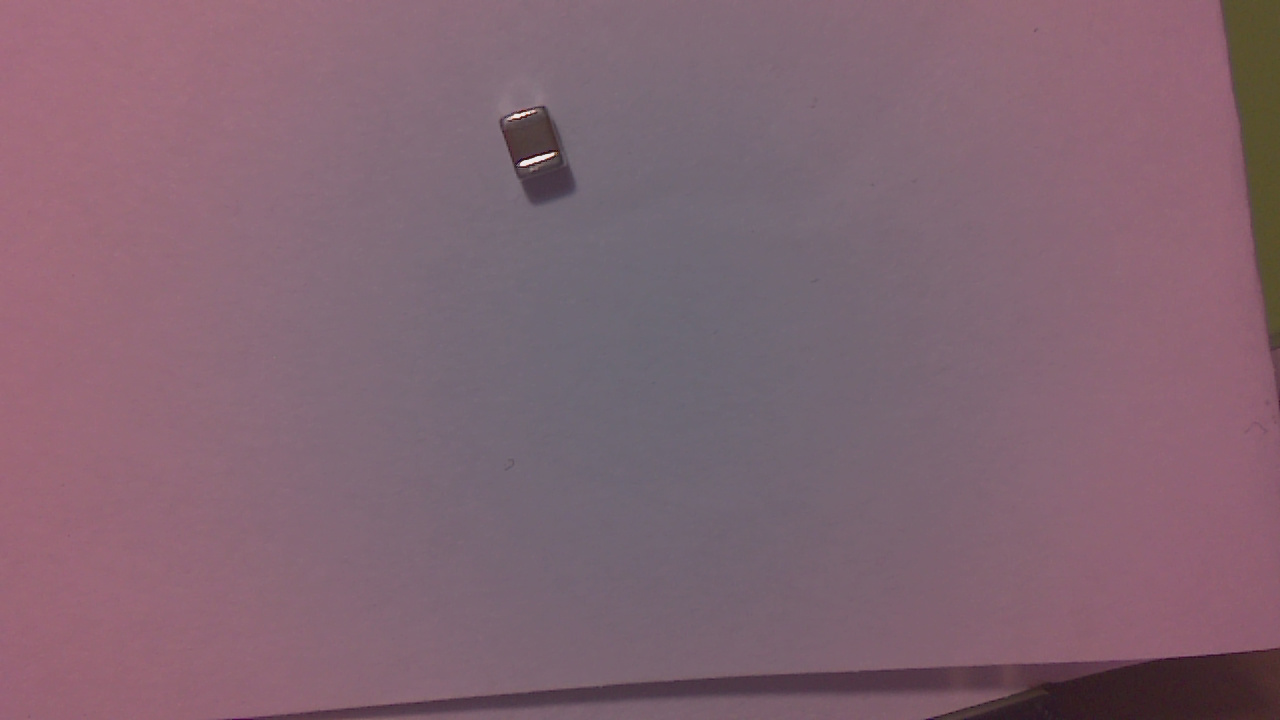Condensator: (502, 111, 574, 188)
